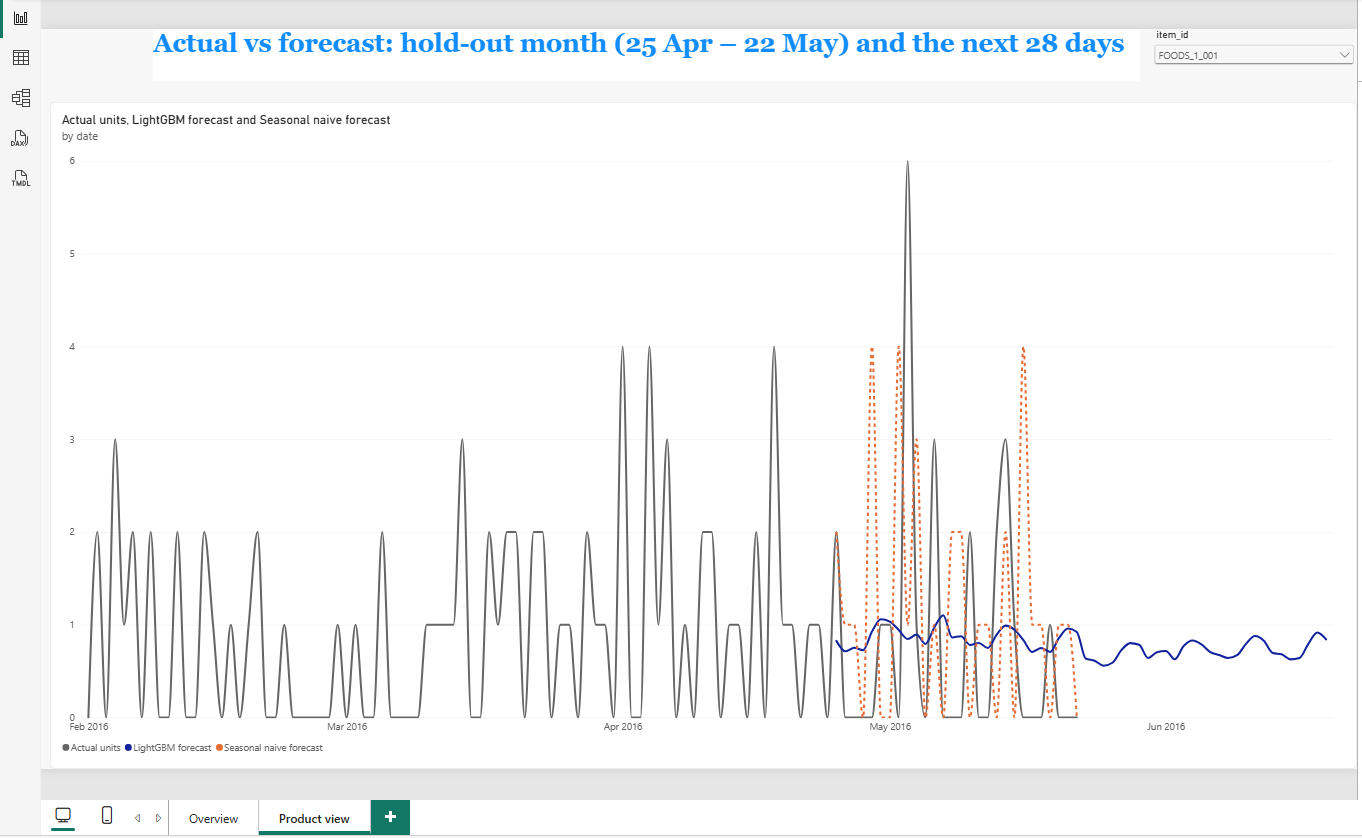

The dashboard page shown, as its layout file describes it:
{"tool":"powerbi","page":{"name":"Product view","canvas":[1920,1080],"ordinal":1},"visuals":[{"type":"textbox","box":[163.4,0,1440,75.9],"z":0},{"type":"slicer","fields":{"Values":["items.item_id"]},"box":[1619.5,0,300.5,75.9],"z":1},{"type":"lineChart","title":"FOODS_3_090: the forecast follows the weekly rhythm","fields":{"Category":["daily.date"],"Y":["item_errors.Actual units","item_errors.LightGBM forecast","item_errors.Seasonal naive forecast"]},"box":[13.1,106.5,1906.9,973.1],"z":2}]}

Visuals, with their boxes on the page's 1920x1080 design canvas (x1, y1, x2, y2). These are canvas units, not pixel positions in the 1362x838 screenshot, which may show the page scaled, cropped or inside an application window:
textbox: [left=163, top=0, right=1603, bottom=76]
slicer - items.item_id: [left=1620, top=0, right=1920, bottom=76]
"FOODS_3_090: the forecast follows the weekly rhythm" lineChart: [left=13, top=106, right=1920, bottom=1080]
